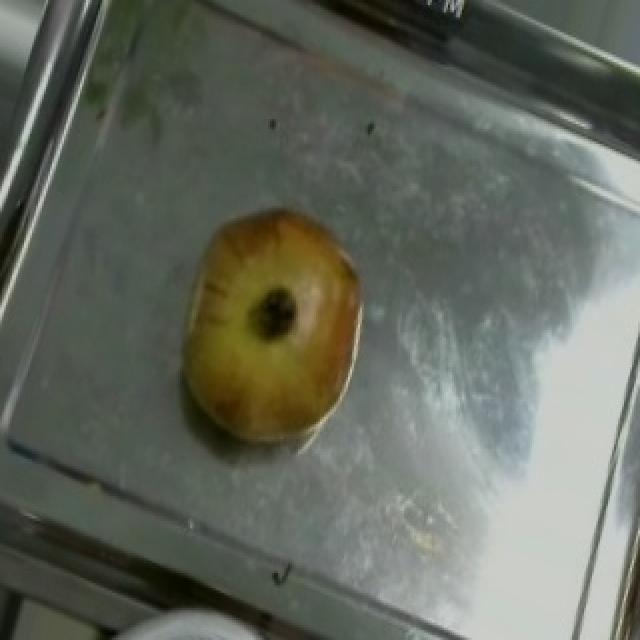fruit: (136, 176, 402, 466)
